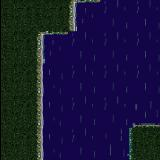Interaction: (24, 17, 56, 160), (56, 0, 82, 40)
Slow: (43, 36, 125, 160), (125, 0, 160, 123), (77, 3, 125, 36)
